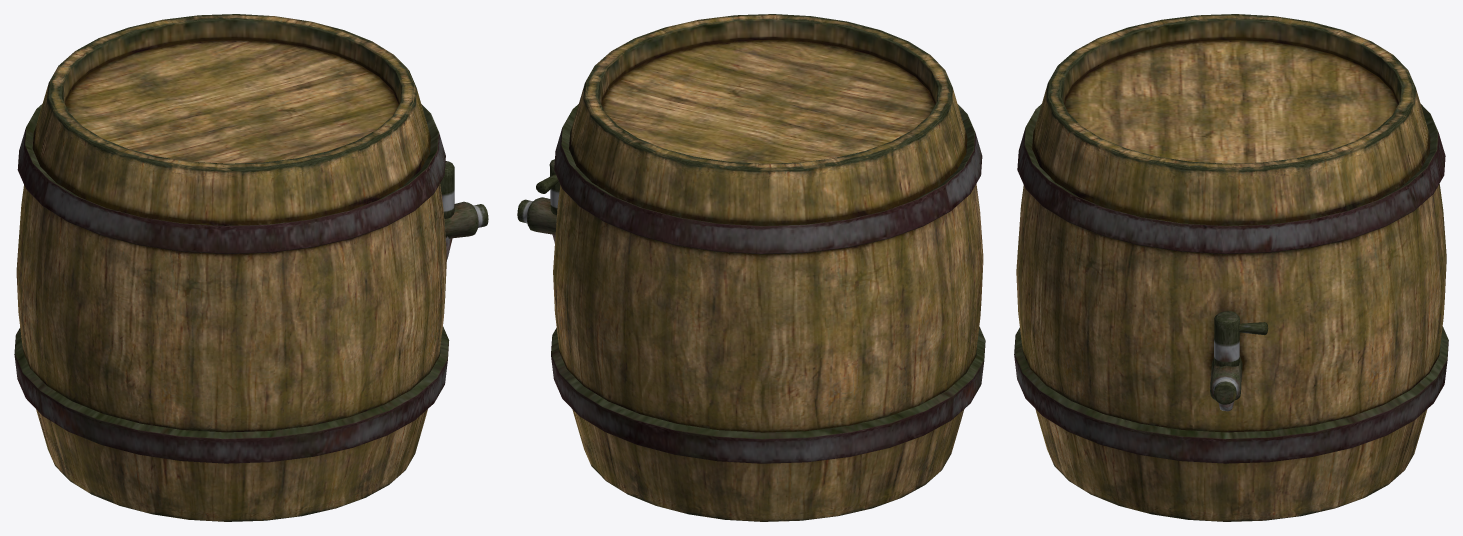
Rendered from obj_small_wine_beer_barrel_ba313d.glb.
The picture shows the model from 3 angles, left to right: view 1: azimuth 30°, elevation 25°; view 2: azimuth 150°, elevation 25°; view 3: azimuth 270°, elevation 25°; orthographic projection.
Visible parts, largest first — view 1: obj_small_wine_beer_barrel_ba313d; view 2: obj_small_wine_beer_barrel_ba313d; view 3: obj_small_wine_beer_barrel_ba313d.
Part boxes in pixels (<box>): obj_small_wine_beer_barrel_ba313d: <box>14,14,488,521</box>; obj_small_wine_beer_barrel_ba313d: <box>517,14,985,521</box>; obj_small_wine_beer_barrel_ba313d: <box>1014,14,1448,521</box>.
Bounding box in the file's own units: 0.3249 × 0.25 × 0.2791.
1 material, 1 textured.
